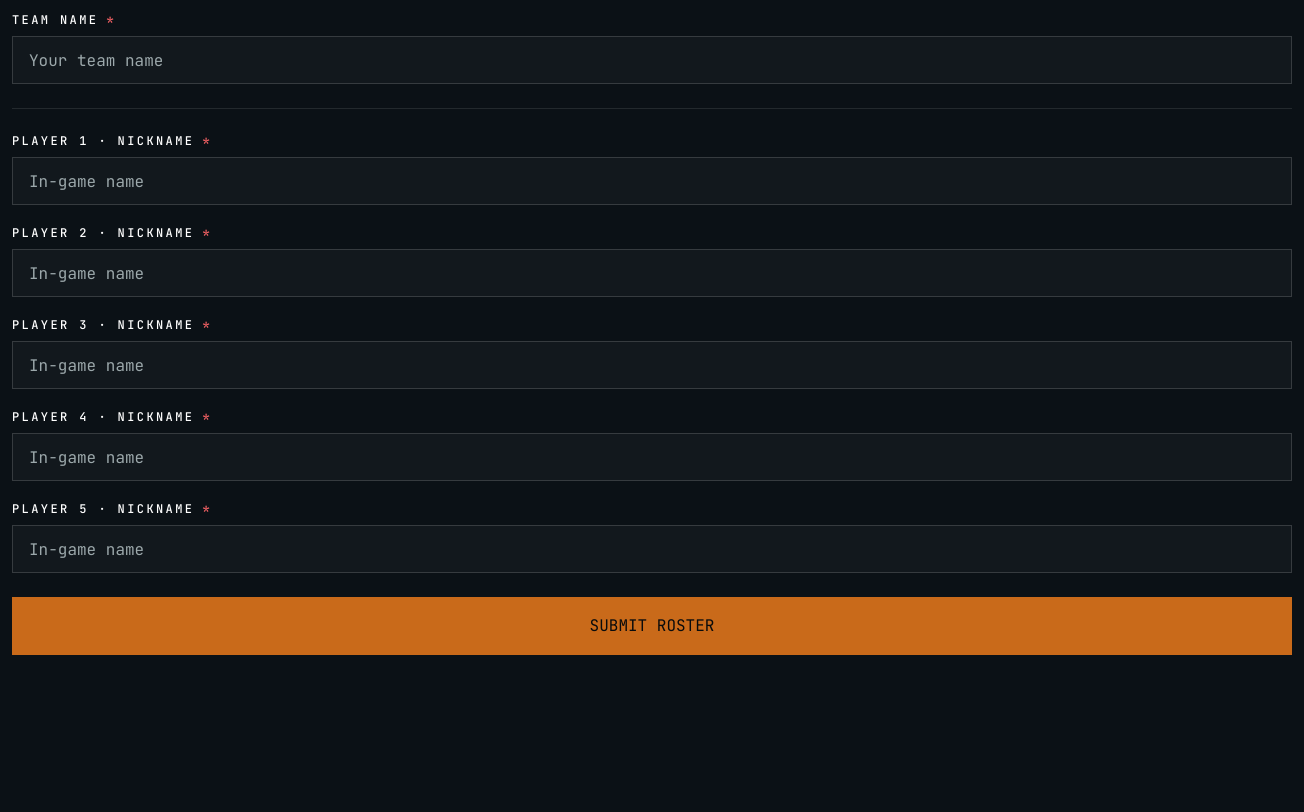
RegisterForm component › drops a character outside the allowed set as it is typed
The image size is (1304, 812).
Type "rop<z>" into the field labelled "Player 1 · Nickname" at x=652, y=181, box [12, 157, 1292, 205]
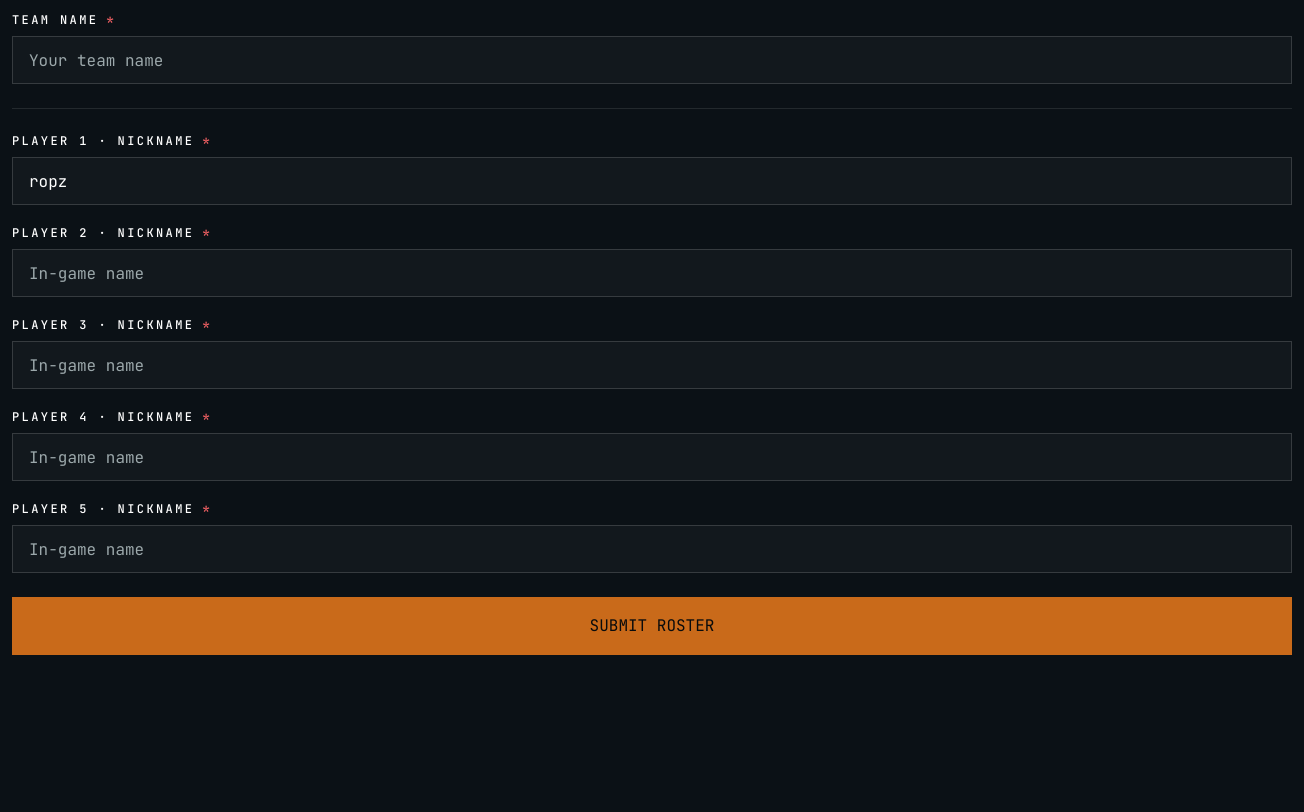
Expected: the field labelled "Player 1 · Nickname" holds "ropz", [12, 157, 1292, 205]
